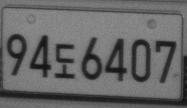0: (130, 37, 151, 83)
4: (104, 38, 127, 82), (29, 34, 51, 78)
6: (80, 37, 102, 80)
7: (154, 40, 177, 83)
9: (6, 32, 27, 76)
도: (54, 43, 75, 80)
